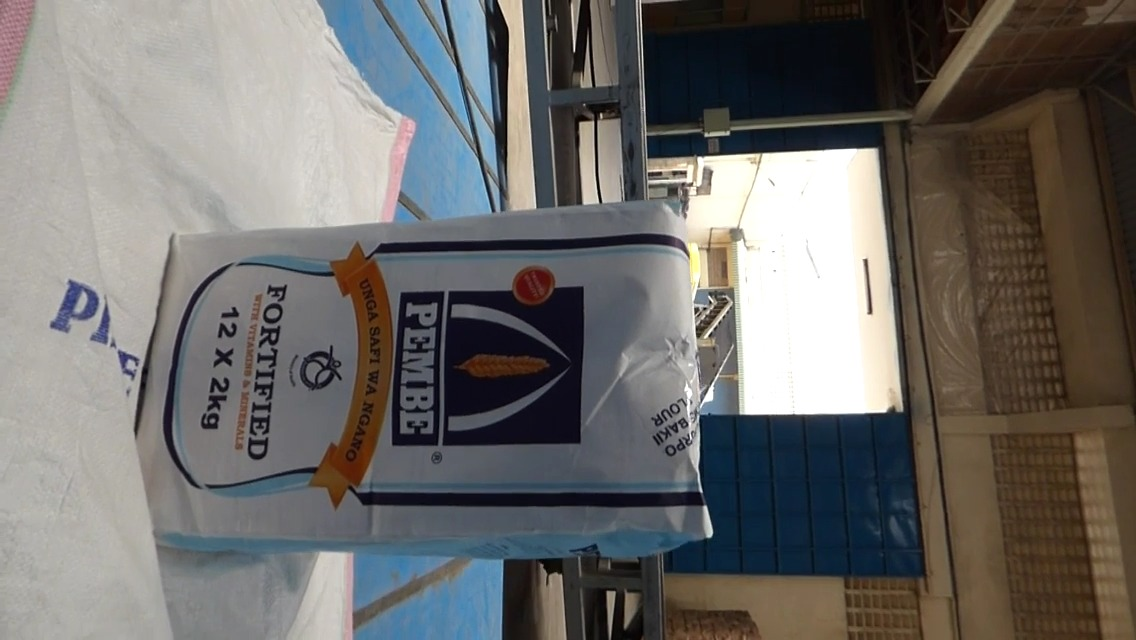wheat_flour_blue_label: (148, 202, 709, 560)
